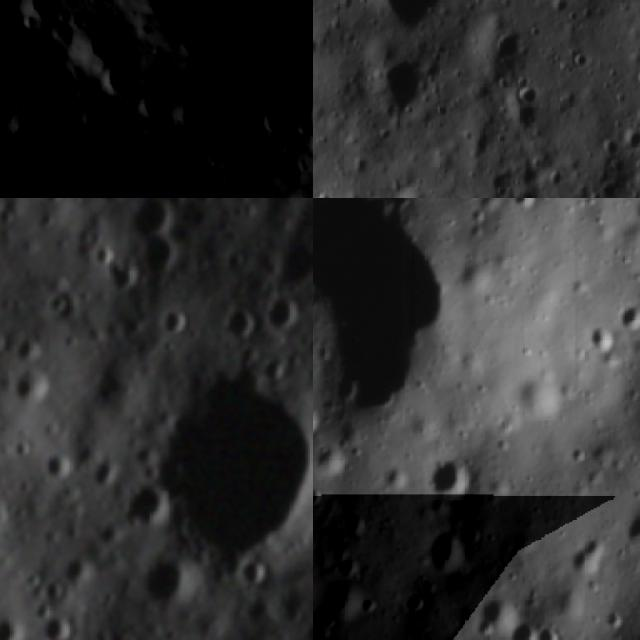crater: (107, 345, 313, 598), (313, 198, 463, 422), (0, 320, 47, 466), (126, 545, 210, 625), (363, 42, 431, 119), (109, 471, 180, 542), (124, 223, 193, 292), (66, 11, 136, 73), (250, 291, 306, 349), (426, 518, 484, 574), (424, 446, 480, 504), (123, 198, 186, 248), (564, 527, 617, 583), (476, 584, 529, 640), (213, 296, 267, 350), (317, 570, 370, 623), (32, 438, 84, 491), (366, 0, 449, 32), (228, 554, 276, 604), (53, 549, 100, 597), (274, 241, 313, 298), (13, 367, 60, 414), (32, 603, 91, 640), (174, 89, 220, 132), (250, 351, 295, 393), (83, 452, 125, 495), (10, 0, 64, 33), (313, 438, 352, 482), (487, 26, 527, 66), (130, 83, 170, 120), (257, 108, 295, 146), (462, 257, 502, 293), (507, 609, 550, 640), (0, 198, 30, 242), (0, 603, 34, 640), (588, 319, 622, 354), (401, 584, 437, 616), (615, 289, 640, 335), (599, 605, 631, 636), (84, 198, 137, 216), (382, 464, 412, 494), (344, 507, 371, 538), (569, 441, 594, 469), (313, 478, 331, 504), (476, 198, 507, 213), (513, 198, 542, 213), (313, 398, 323, 435), (304, 123, 313, 160)
